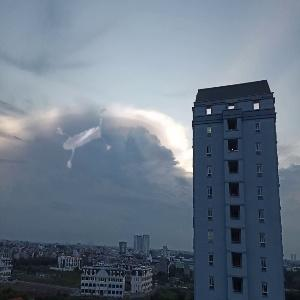drone: (38, 89, 131, 182)
